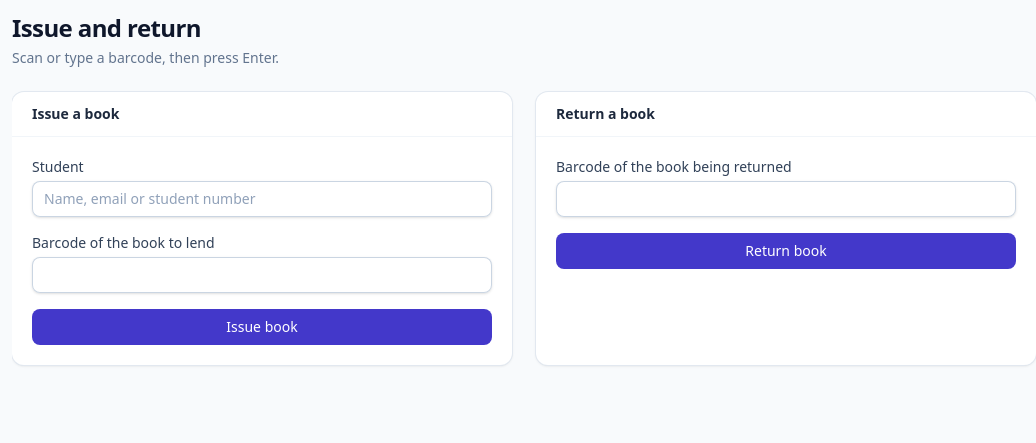
DeskPage: issuing › shows the library rule that stopped the loan and keeps the barcode to correct
Type "ann" into the search field labelled "Student". click: coordinates (262, 199)
box: [32,181,492,217]
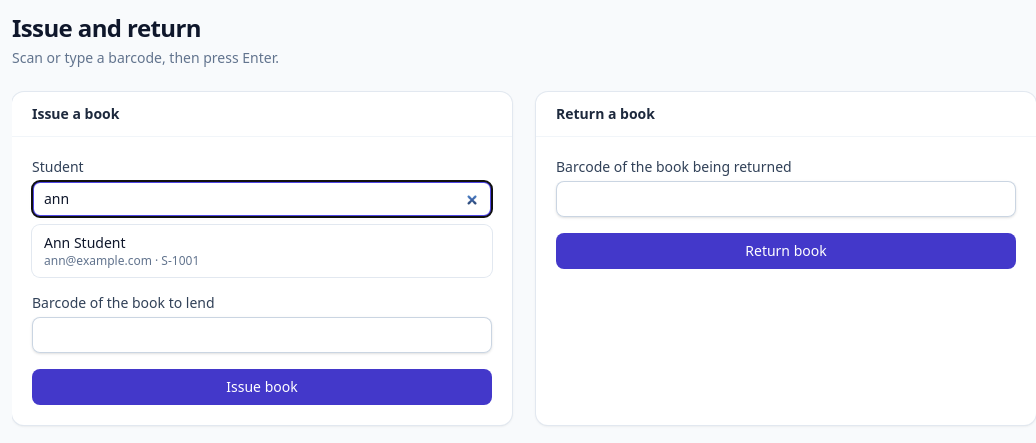
Click the button with aria-label "Select Ann Student". click: coordinates (85, 242)
box: [32,225,492,277]
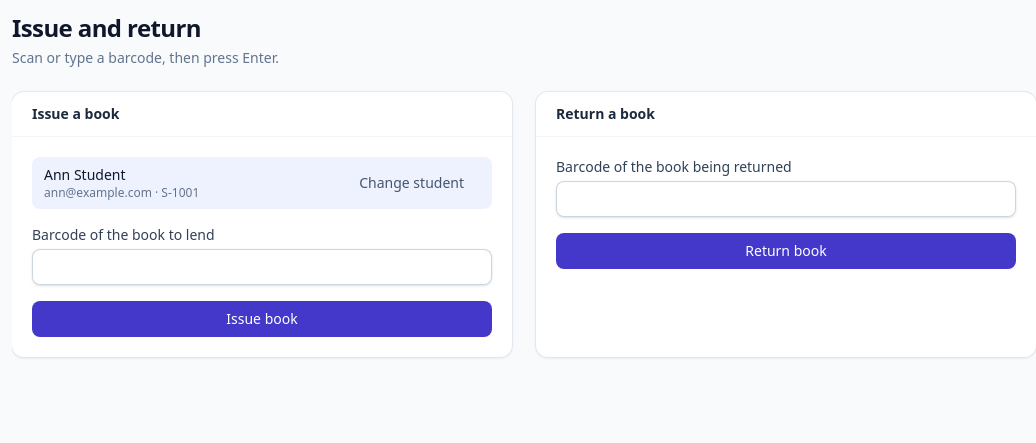
Type "CB-0002" into the field labelled "Barcode of the book to lend". click: coordinates (262, 267)
box: [32,249,492,285]
Then press Enter
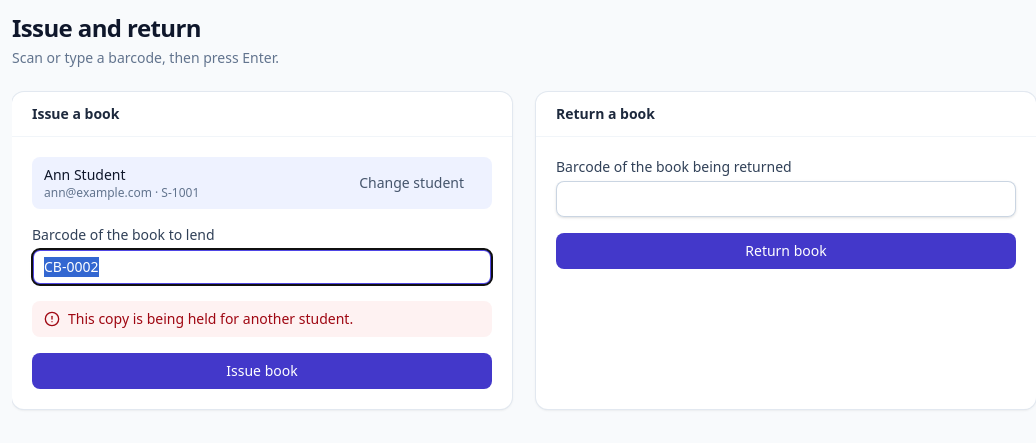
Now the text "This copy is being held for another student." is shown, box [68,309,353,329]
